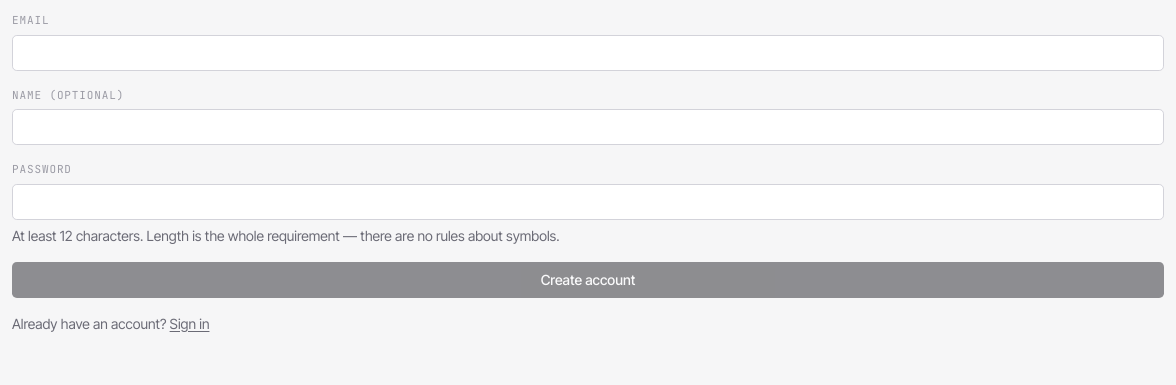
it: CredentialsForm — signing up › points a returning user at sign-in when the address is taken
Type "sam@example.com" into the field labelled "Email" at (588,52), box [12,34,1164,70]
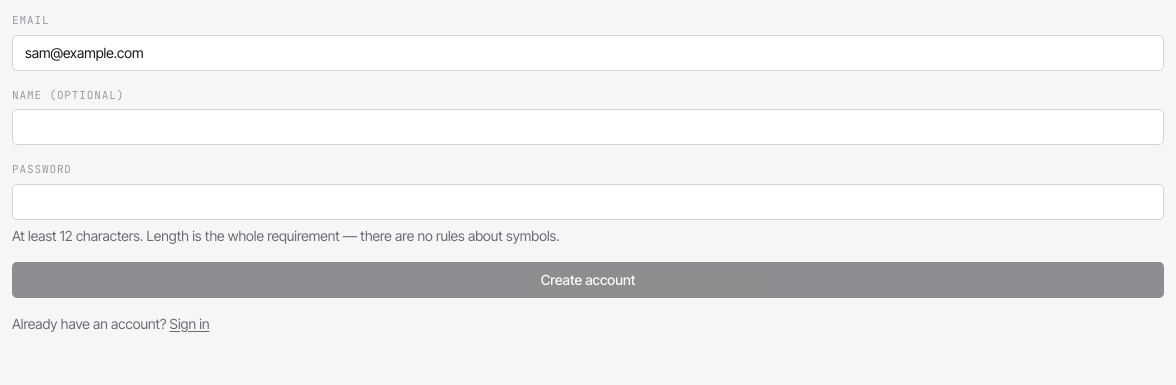
Type "correct horse battery" into the password field labelled "Password" at (588,202), box [12,184,1164,220]
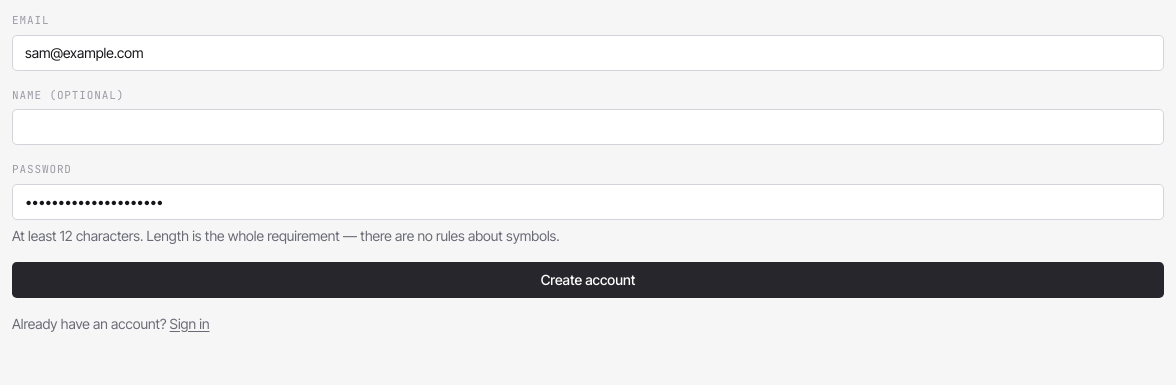
Click the button "Create account" at (588,280), box [12,262,1164,298]
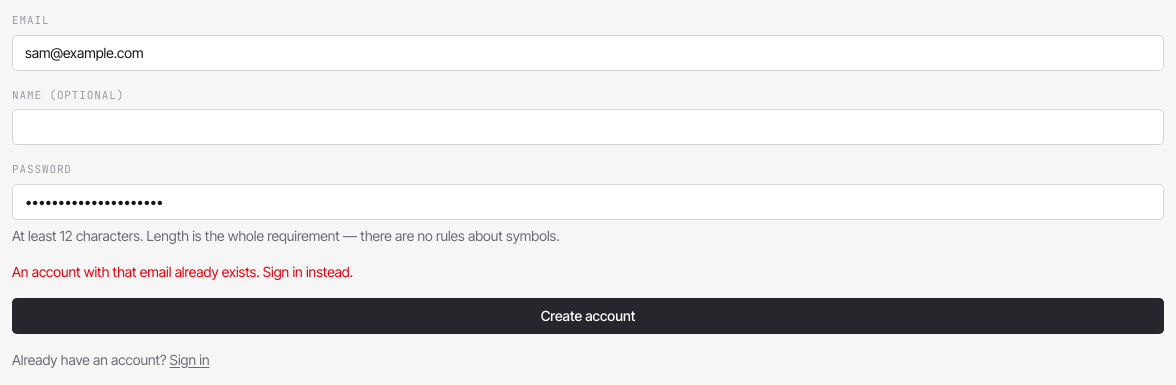
Check: the message shows "Sign in instead", box [12,262,353,280]
